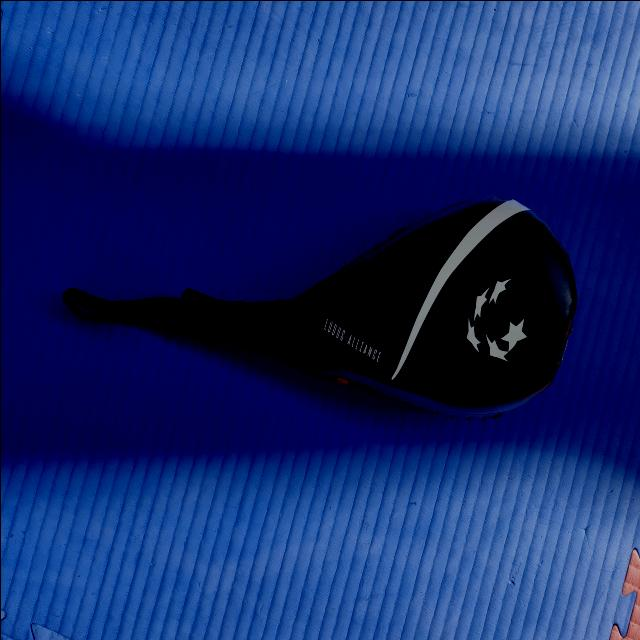paddle: (179, 193, 580, 423)
